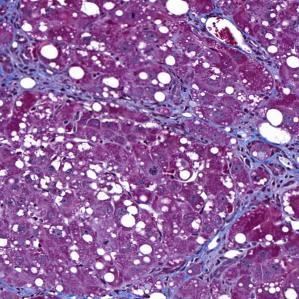fibrosis: (11, 47, 72, 100), (244, 170, 298, 212), (226, 115, 266, 157)
